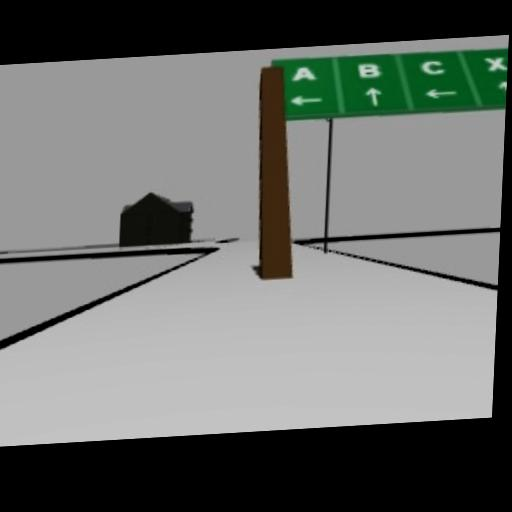A: (290, 62, 316, 80)
B: (357, 60, 381, 78)
C: (419, 56, 445, 74)
Left: (423, 86, 458, 100), (289, 92, 323, 106)
Straight: (364, 85, 382, 105), (496, 79, 507, 97)
X: (485, 53, 508, 70)
